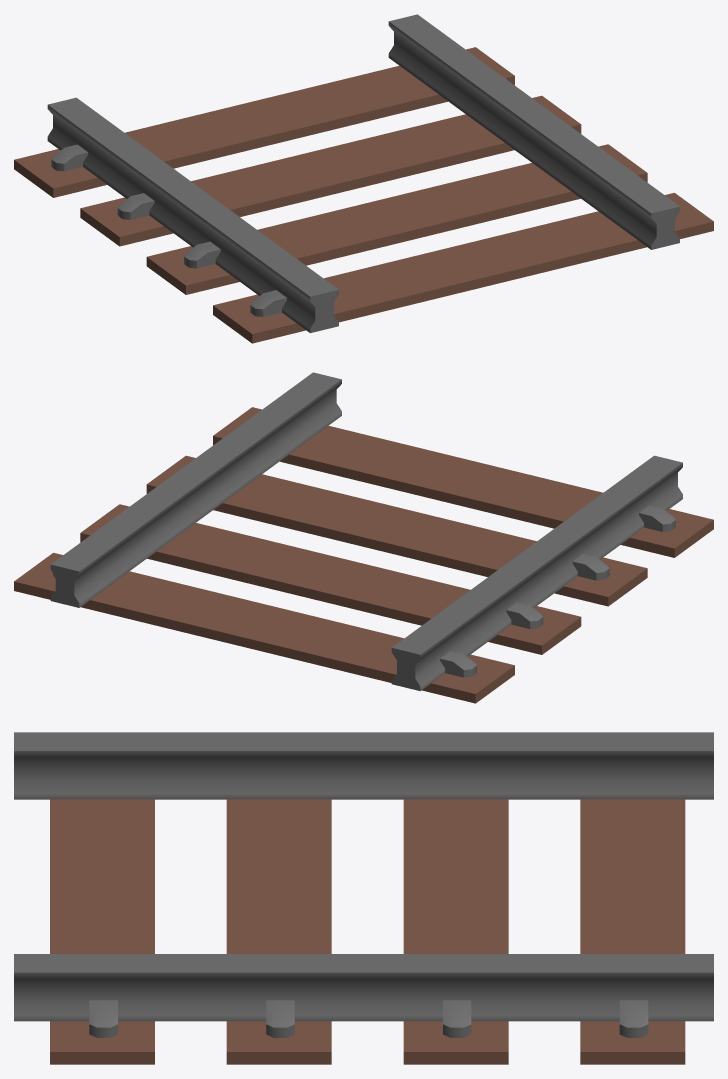
The model's file is Trilho_reto.fbx.
3 views of the same model, one above another, from view 1: azimuth 30°, elevation 25°; view 2: azimuth 150°, elevation 25°; view 3: azimuth 270°, elevation 25° (orthographic). The views are drawn at different scales.
Visible parts, largest first — view 1: trilho_reto; view 2: trilho_reto; view 3: trilho_reto.
Part boxes in pixels (x1=…): trilho_reto: x1=14, y1=14, x2=713, y2=343; trilho_reto: x1=14, y1=372, x2=713, y2=703; trilho_reto: x1=14, y1=732, x2=713, y2=1064.
Bounding box in the file's own units: 203 × 19.27 × 200.
